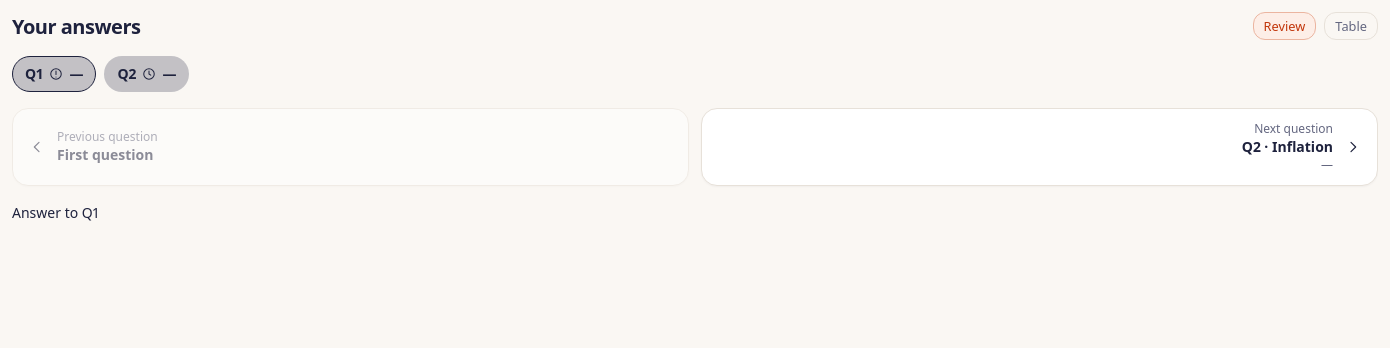
Test: lets a terminal status pill speak for an unmarked row in the table
Click the button with aria-label "Table view".
click(1351, 26)  # box [1324, 12, 1378, 40]
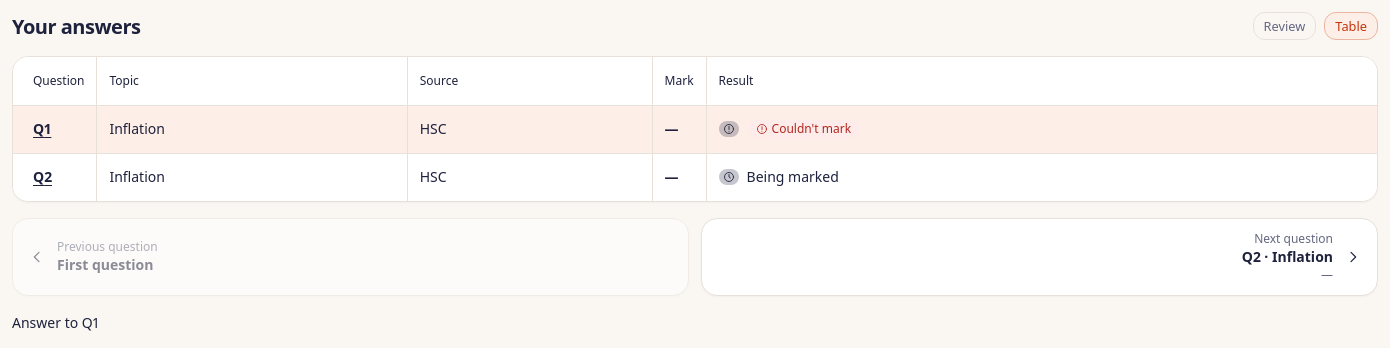
Expected: the row "Q1 Inflation HSC — Couldn't mark" does not show "Being marked", [13, 105, 1377, 153]
Now the row "Q1 Inflation HSC — Couldn't mark" is shown, box [13, 105, 1377, 153]
Now the row "Q2 Inflation HSC — Being marked" is shown, box [13, 153, 1377, 201]
